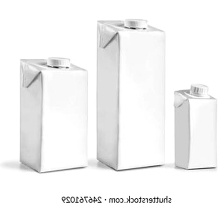carton: (92, 9, 168, 175), (15, 52, 90, 173), (171, 80, 220, 171)
